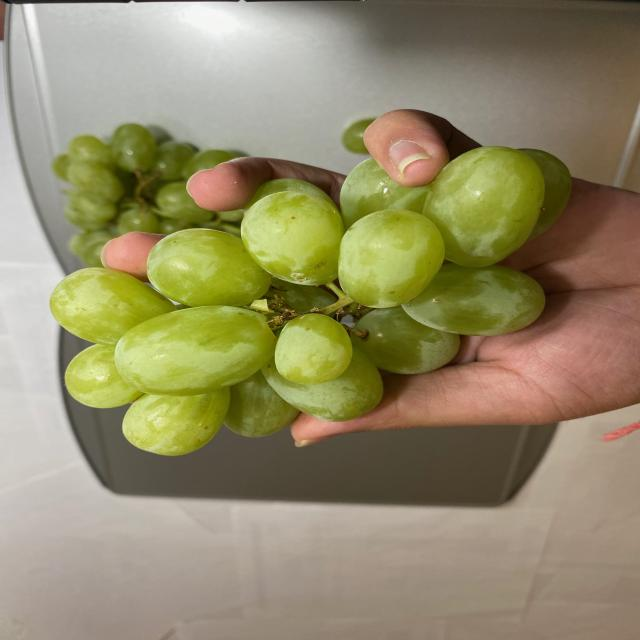grapes: (45, 137, 573, 461)
